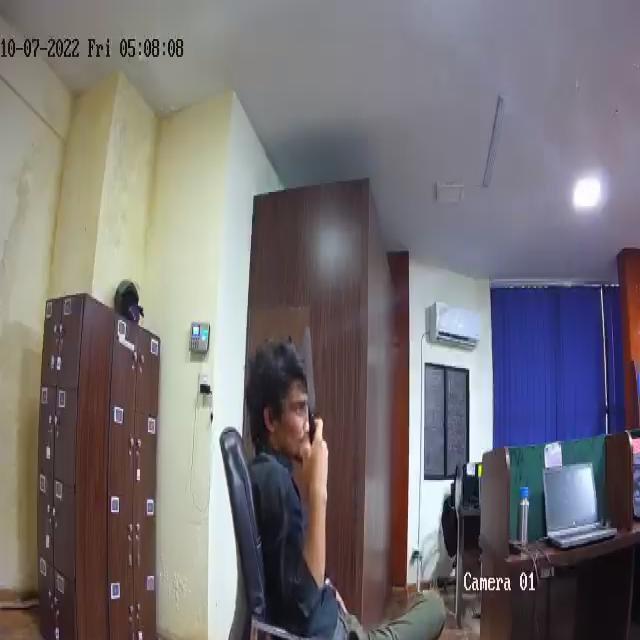Knife: (299, 324, 324, 449)
